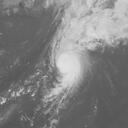cyclone: (46, 25, 93, 107)
